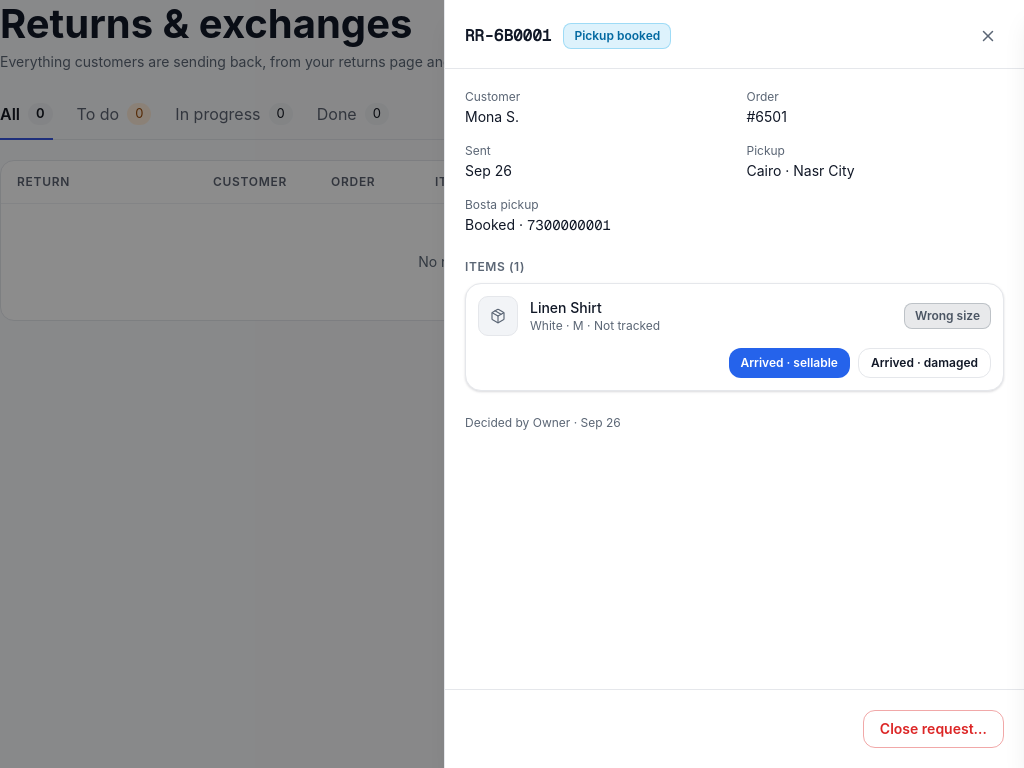
it: Drawer — untracked items (Step 6b) › refund: "Not tracked" + both buttons; Arrived · sellable posts, then the outcome and Undo
The image size is (1024, 768).
Expected: the text with test id "not-tracked" reads "Not tracked", [594, 318, 660, 333]
Click the button "Arrived · sellable": (789,363) [728, 348, 850, 378]
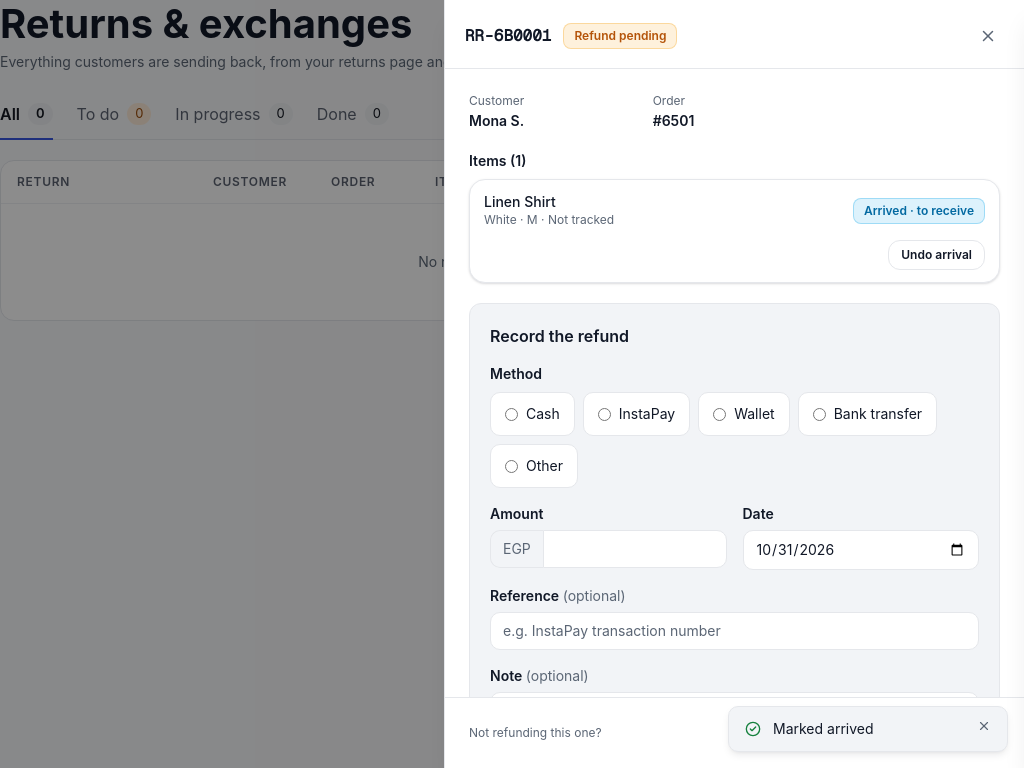
Expected: the text "Arrived · to receive" is shown, [853, 198, 985, 224]
Click the button "Undo arrival": (937,255) [888, 240, 985, 270]
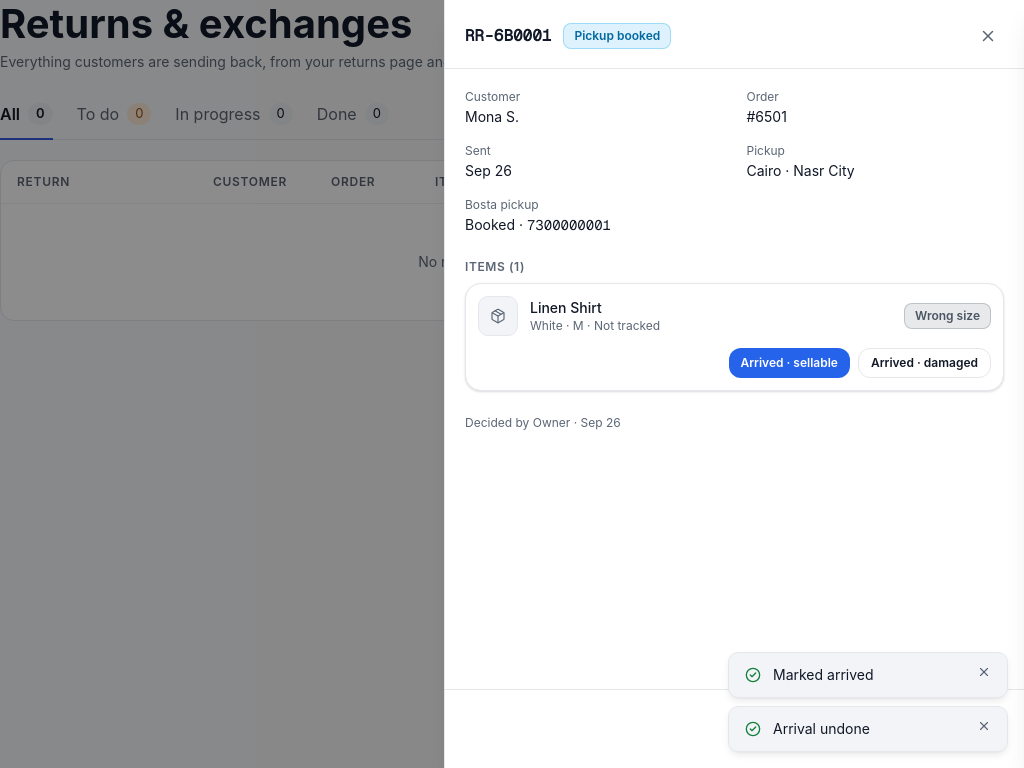
Expected: the button "Arrived · damaged" is shown, [858, 348, 991, 378]
